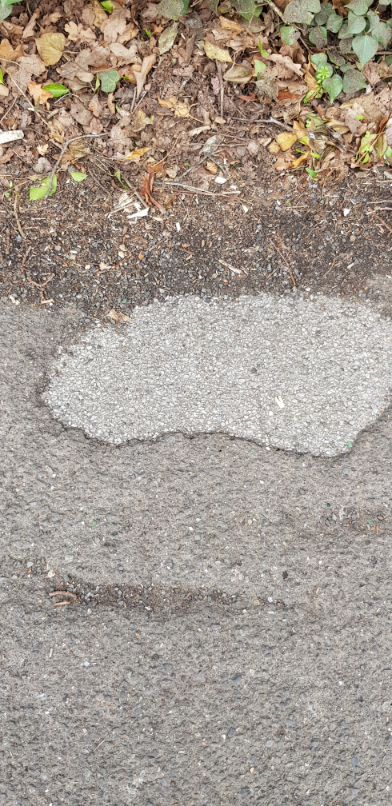pothole: (29, 282, 392, 468)
